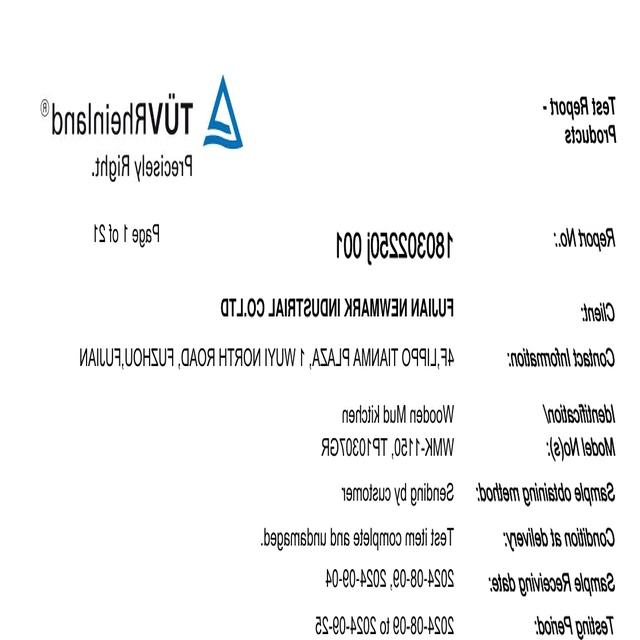tuv_rheinland: (36, 75, 246, 152)
